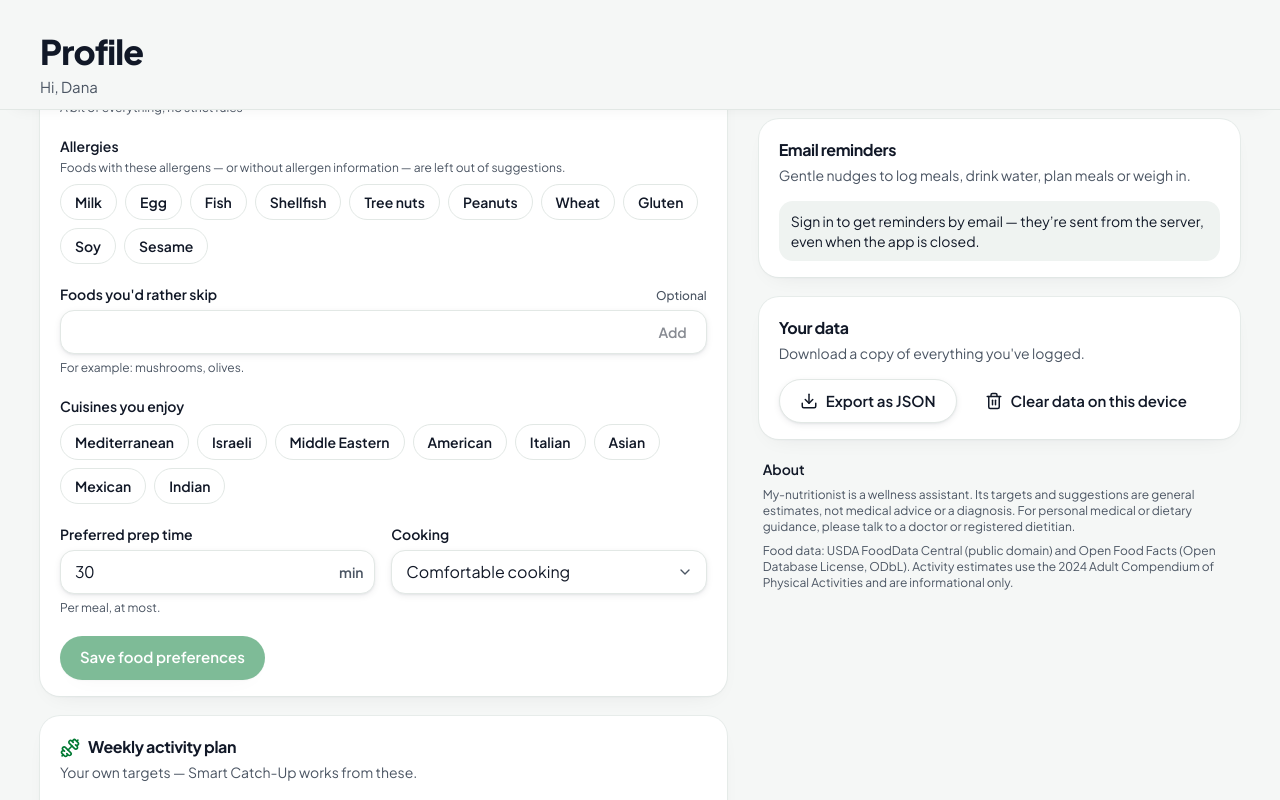
Test: Profile screen in guest mode › clears guest data on this device after confirmation
The image size is (1280, 800).
(page scrolled)
Step 1. Click the button "Clear data on this device" → (1086, 401), box [965,379,1207,423]
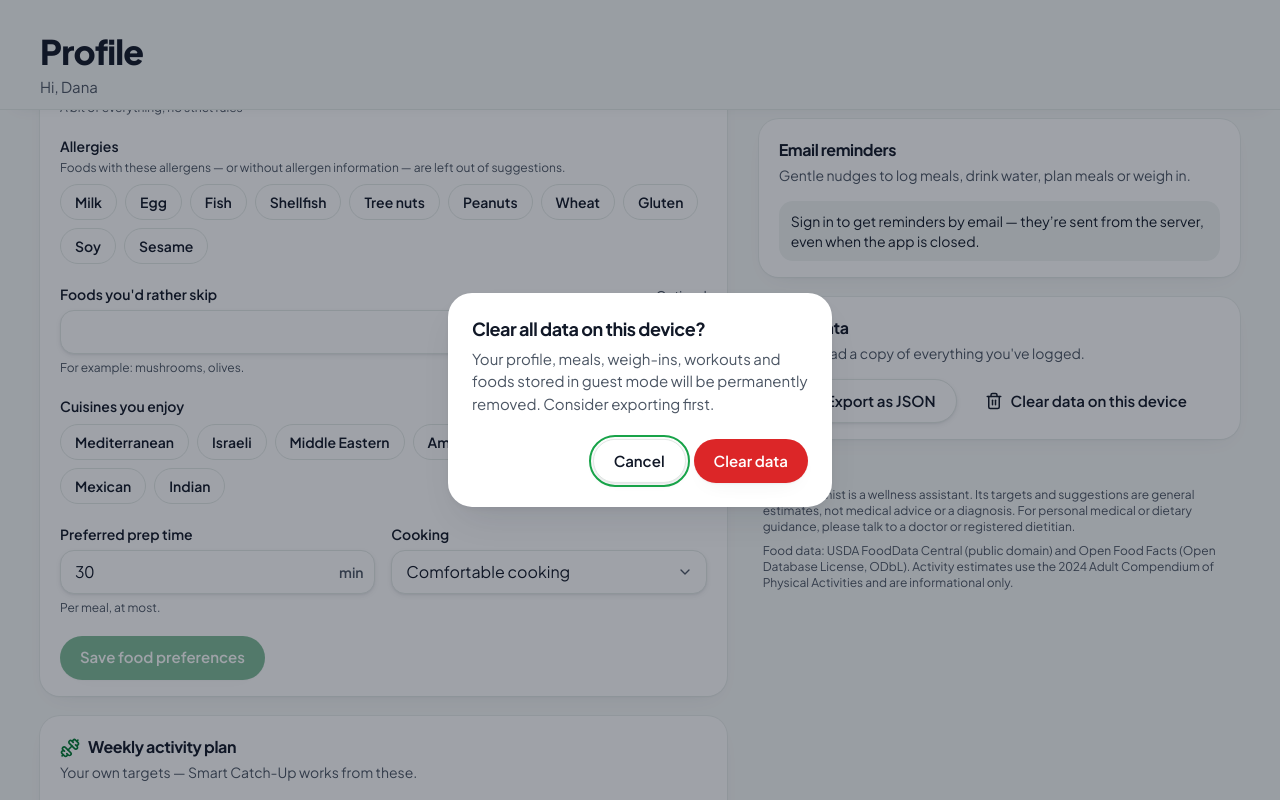
Step 2. Click the button "Clear data" → (751, 461), box [694,439,808,483]
(page scrolled)
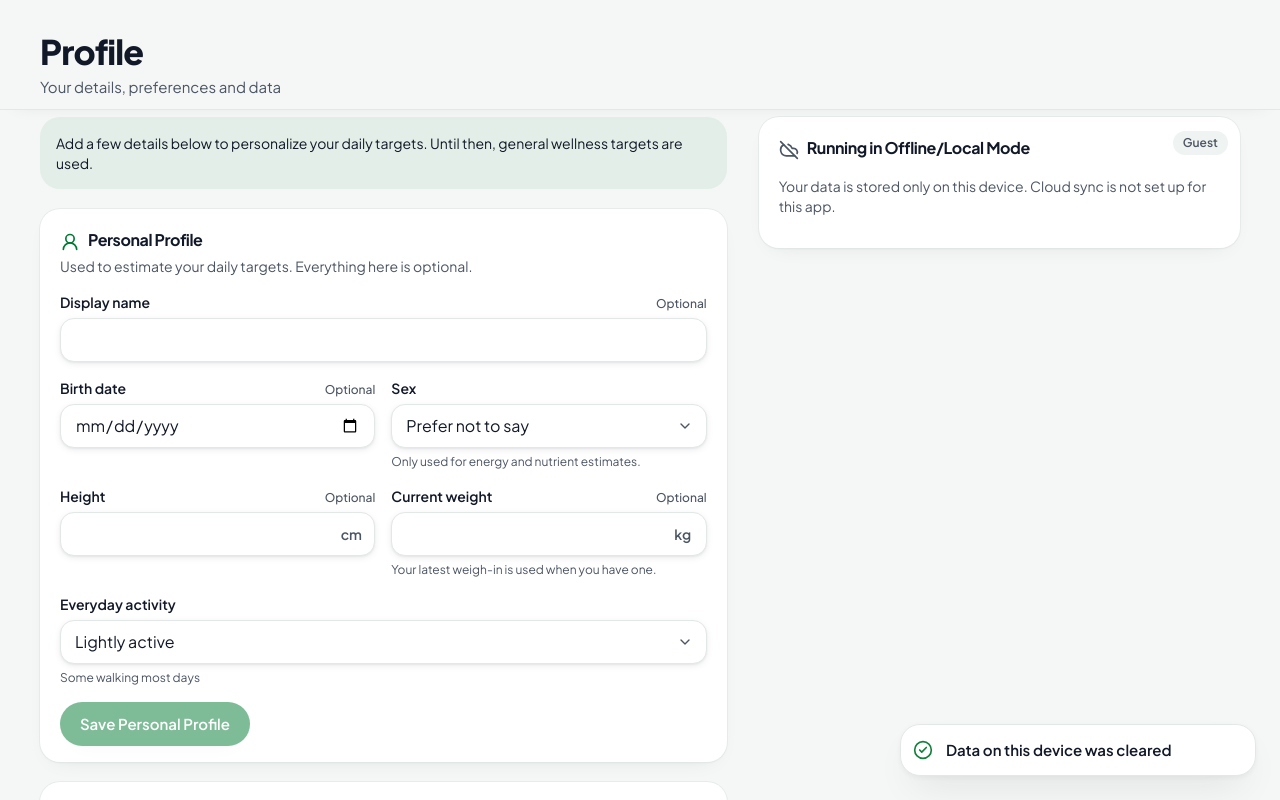
Check: the text "Data on this device was cleared" is shown, box [946,738,1172,761]
